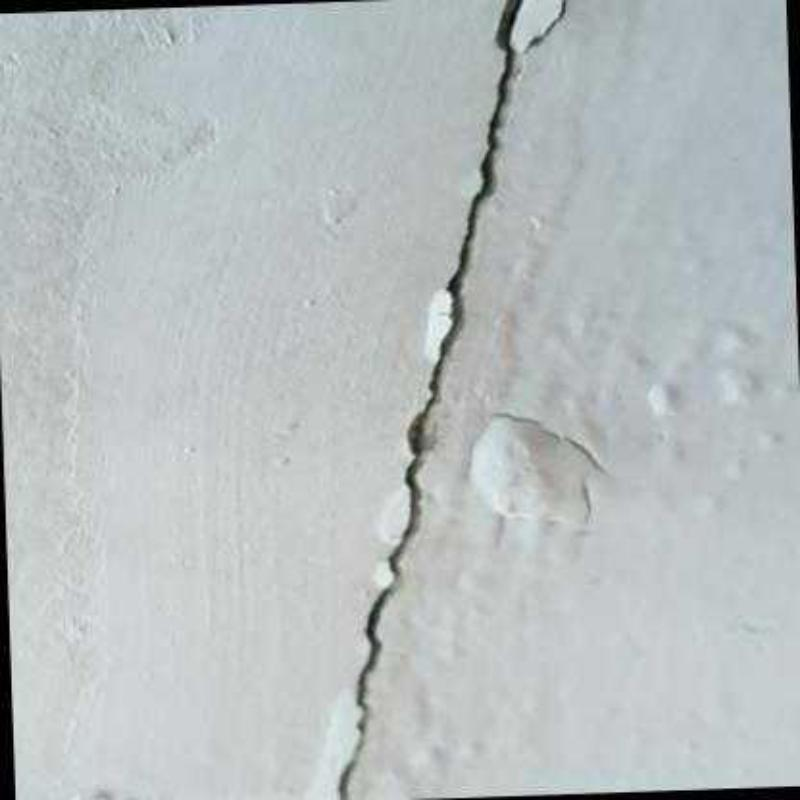crack: (329, 0, 570, 800)
